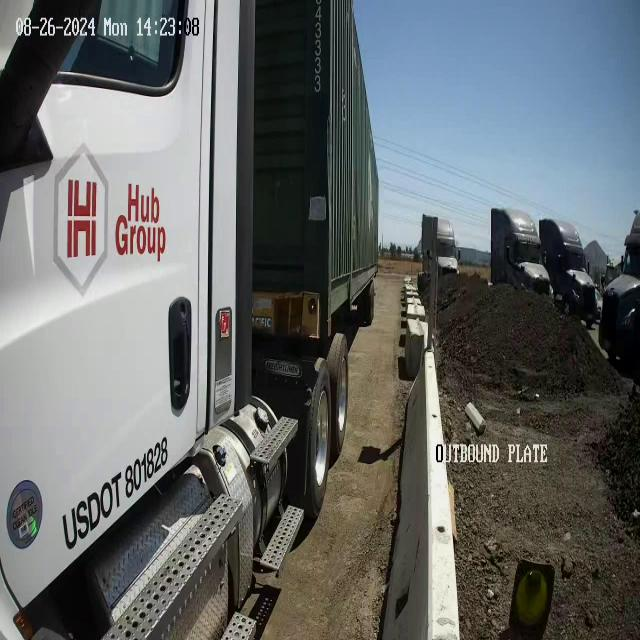CONTAINER: (245, 2, 382, 330)
